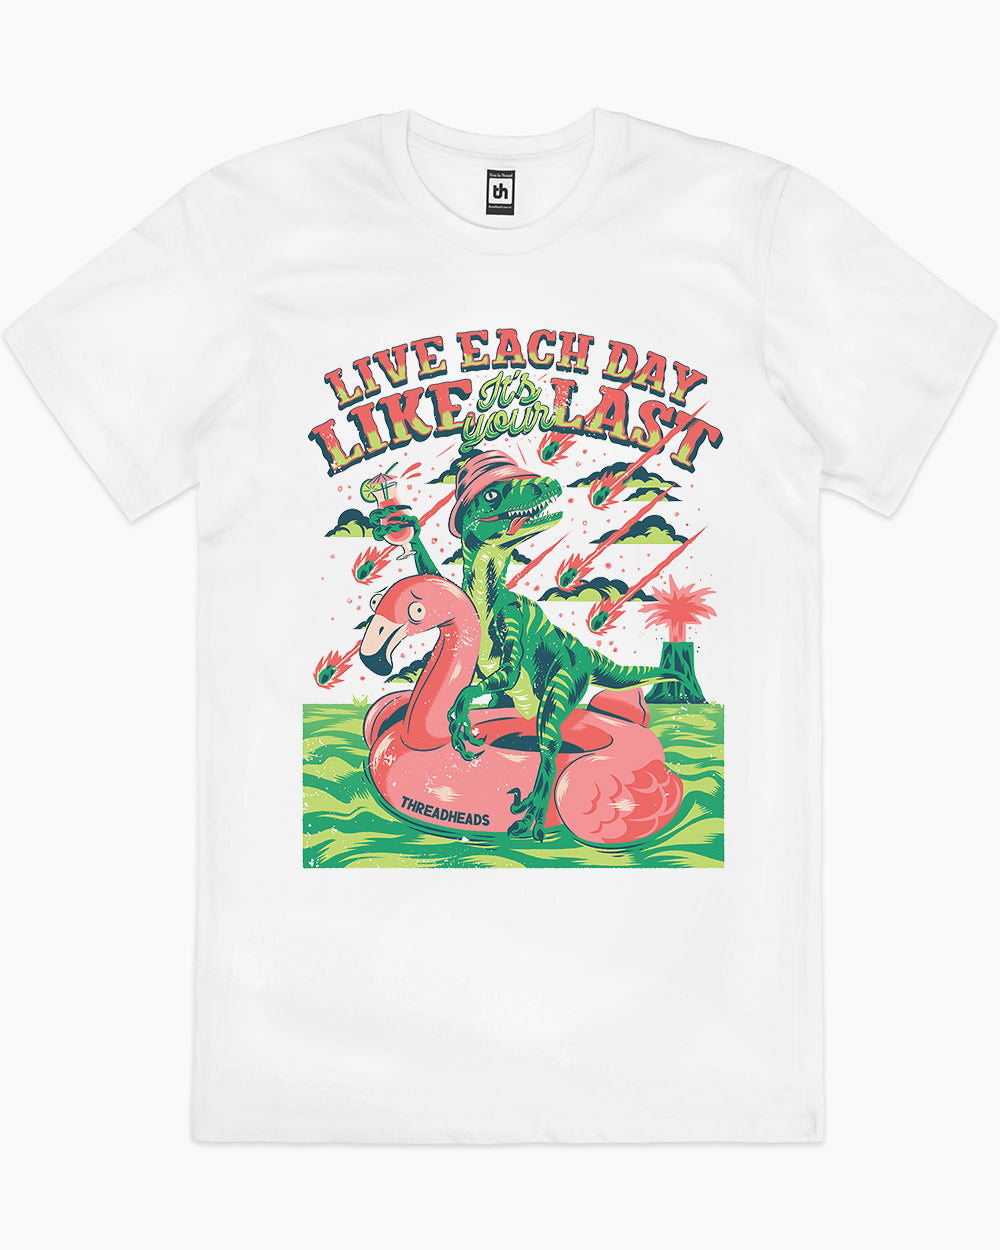design: (297, 320, 728, 872)
